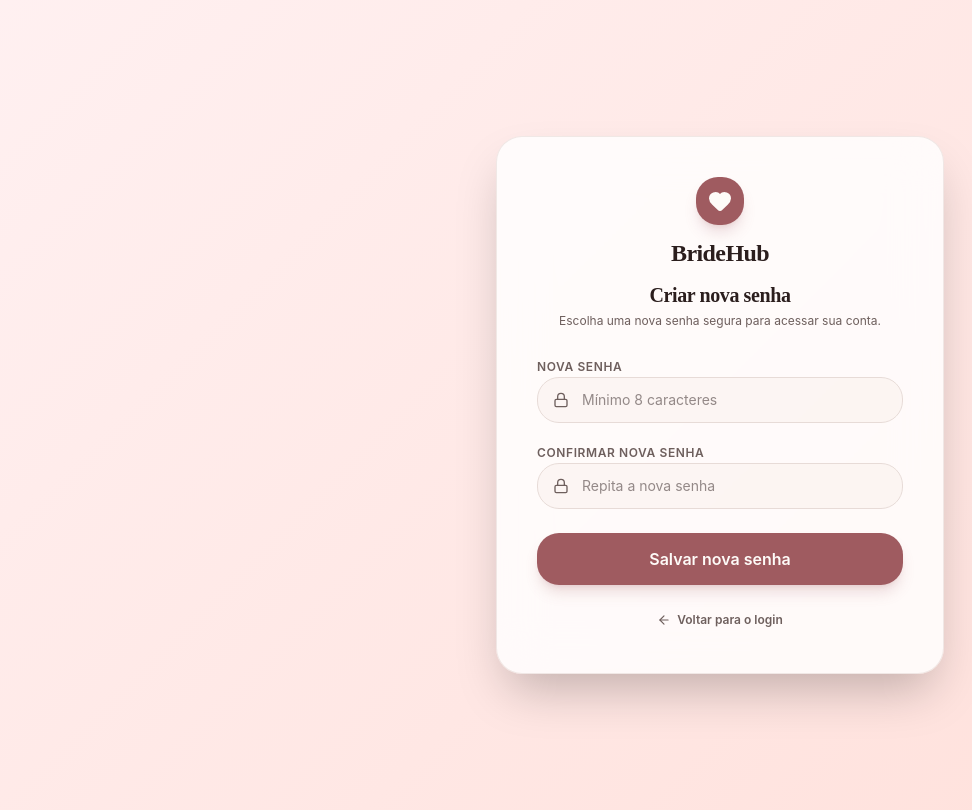
Test case: ResetPasswordPage Component › deve exibir erro quando as senhas não coincidem
The image size is (972, 810).
In the password field with placeholder "Mínimo 8 caracteres": (720, 400) [537,377,903,423], type "novasenha123"
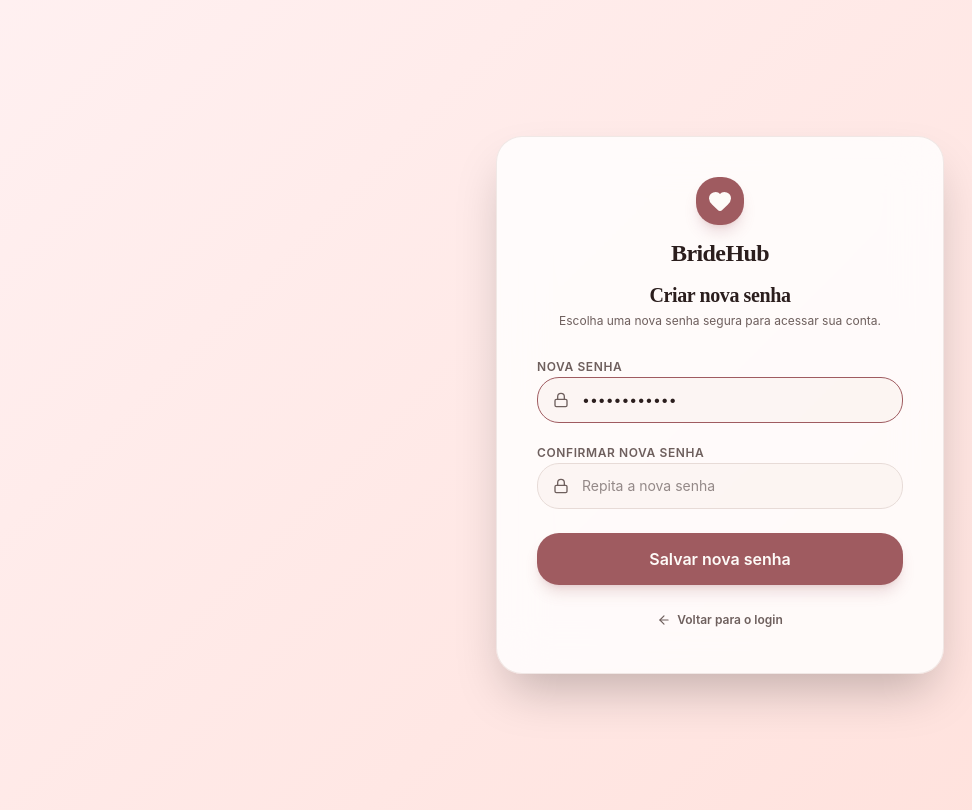
In the password field with placeholder "Repita a nova senha": (720, 486) [537,463,903,509], type "outrasenha456"
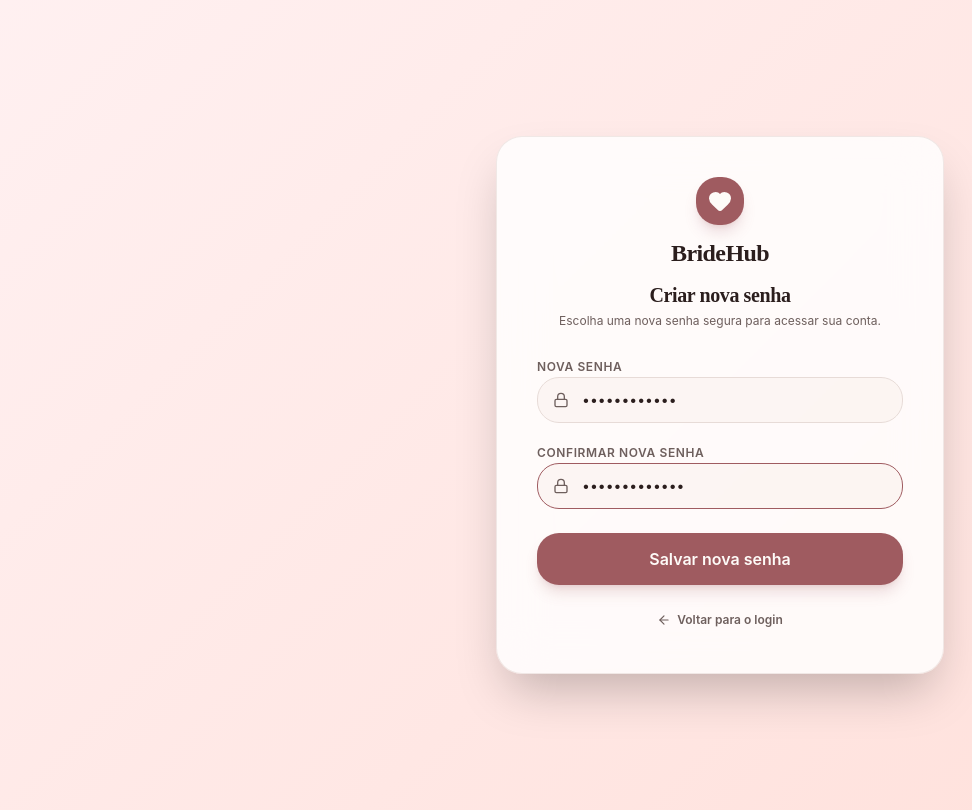
Click the button "Salvar nova senha": (720, 559) [537,533,903,585]
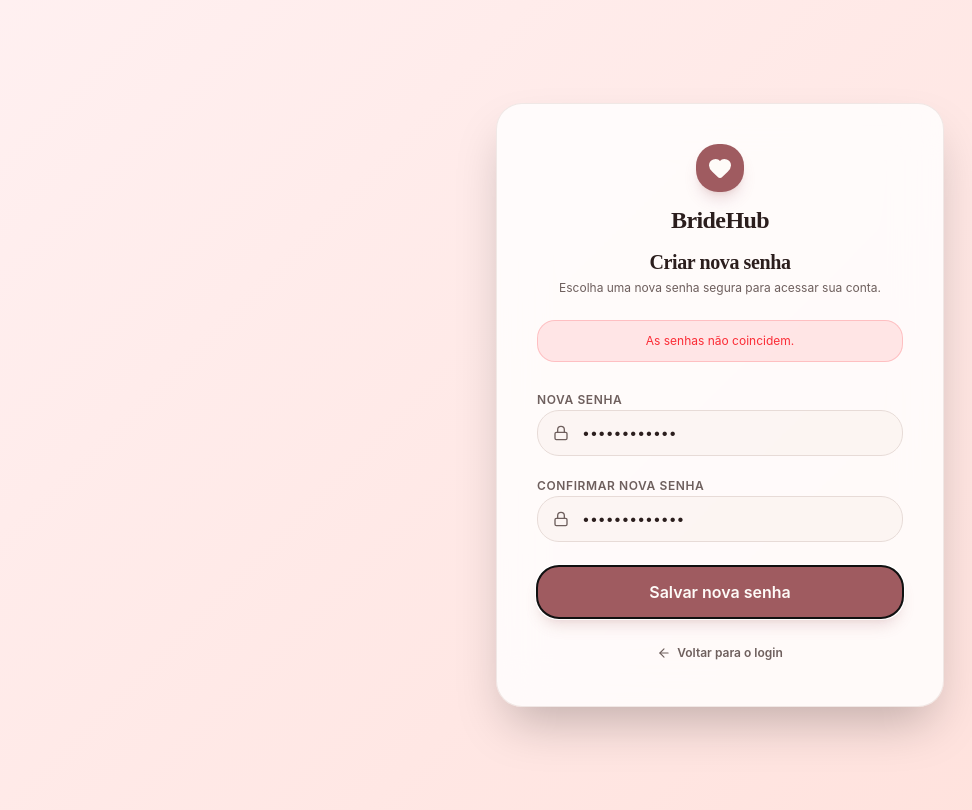
Now the text "As senhas não coincidem." is shown, box [537,320,903,362]
